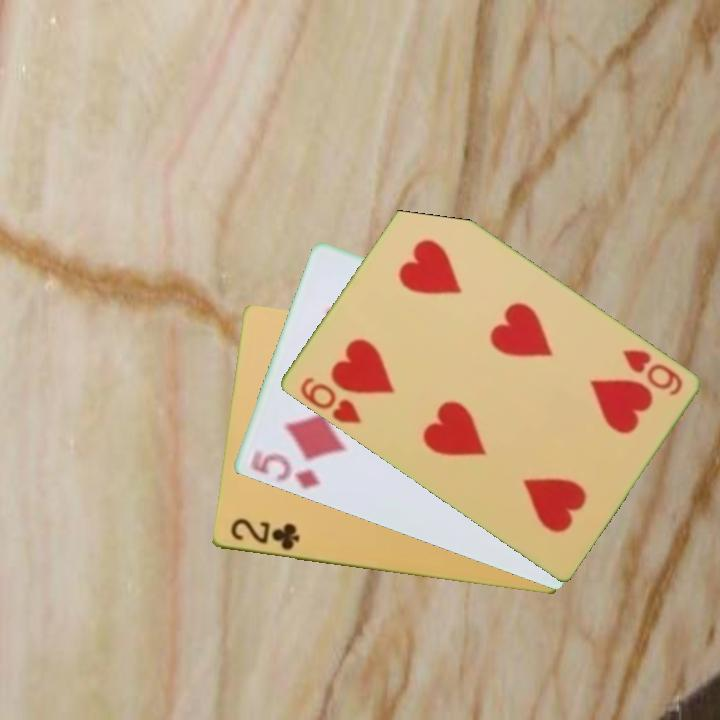2c: (226, 515, 302, 554)
5d: (246, 447, 323, 492)
6h: (296, 373, 364, 427), (618, 345, 685, 399)
